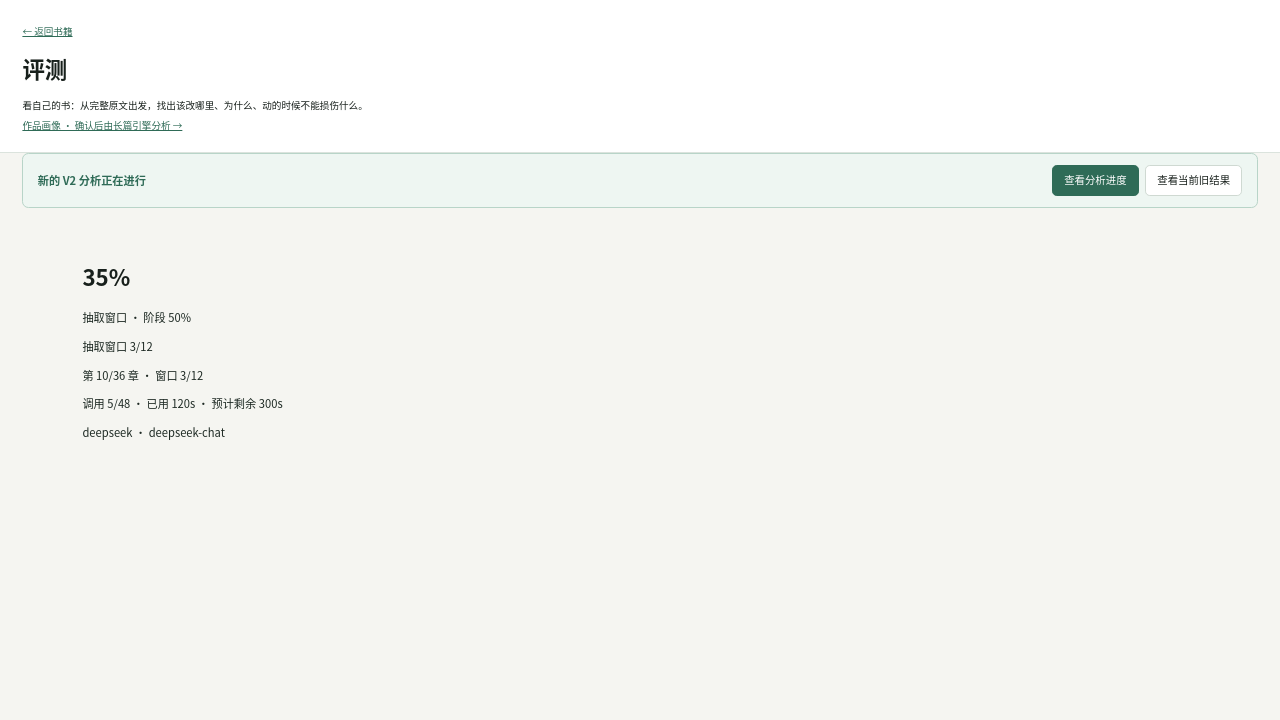
Test: WholeBookV2ProductPage › test_old_result_preserved_while_new_run_running (banner + view old)
Check: the element with test id "whole-book-v2-reanalyse-running-banner" is shown, box [22, 153, 1258, 208]
Check: the text "新的 V2 分析正在进行" is shown, box [38, 172, 146, 189]
Step 1. Click the button "查看当前旧结果" → (1194, 180), box [1145, 165, 1242, 196]
(page scrolled)
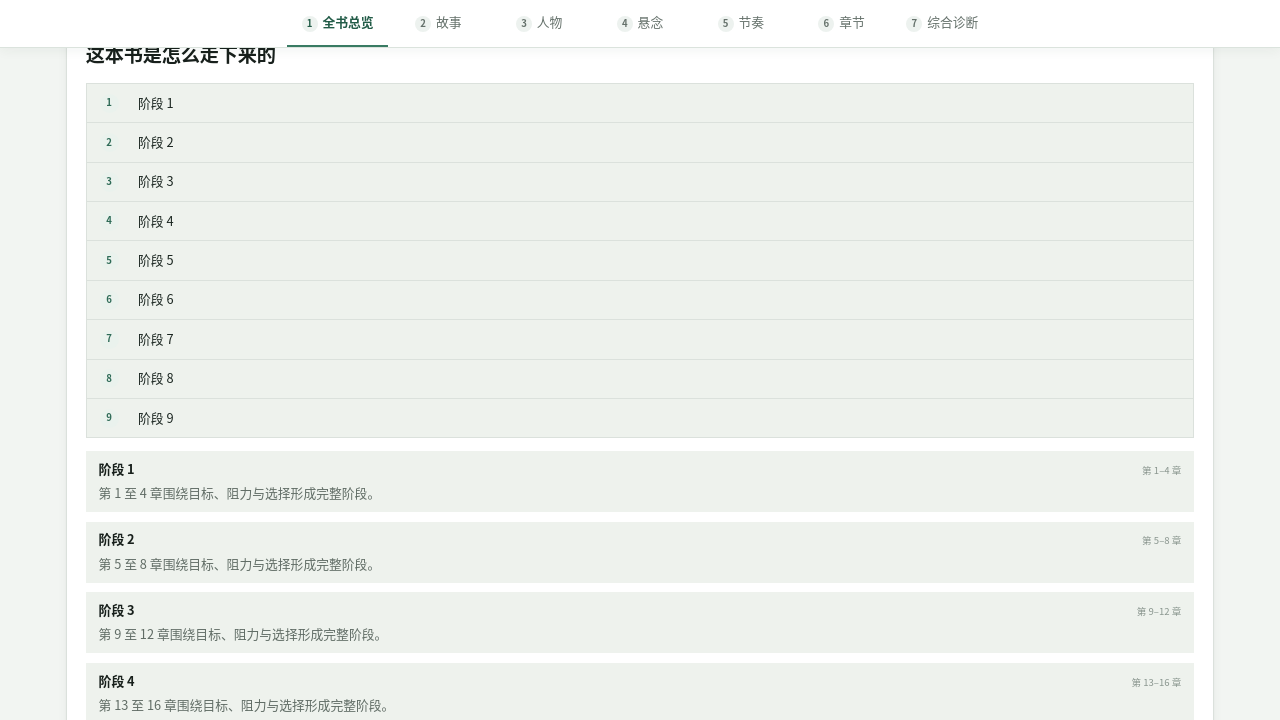
Check: the element with test id "whole-book-v2-progress" is gone
